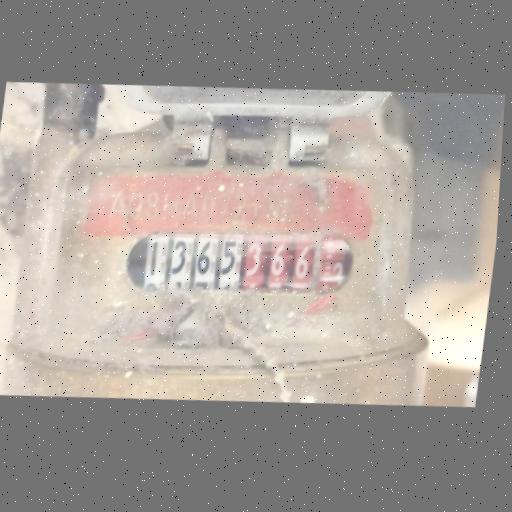1: (141, 235, 172, 292)
3: (168, 235, 196, 289), (242, 237, 268, 289)
5: (216, 236, 244, 291)
6: (192, 237, 220, 291), (266, 238, 292, 290), (291, 238, 317, 289)
border_water_meter_number: (121, 217, 358, 308)
